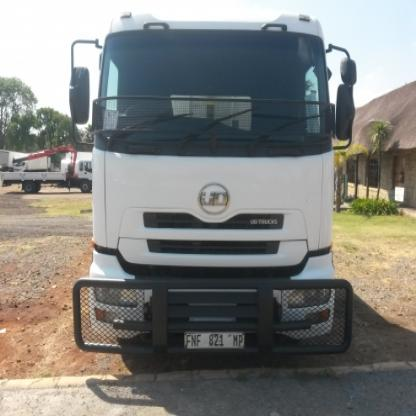dump_truck: (55, 5, 359, 378)
